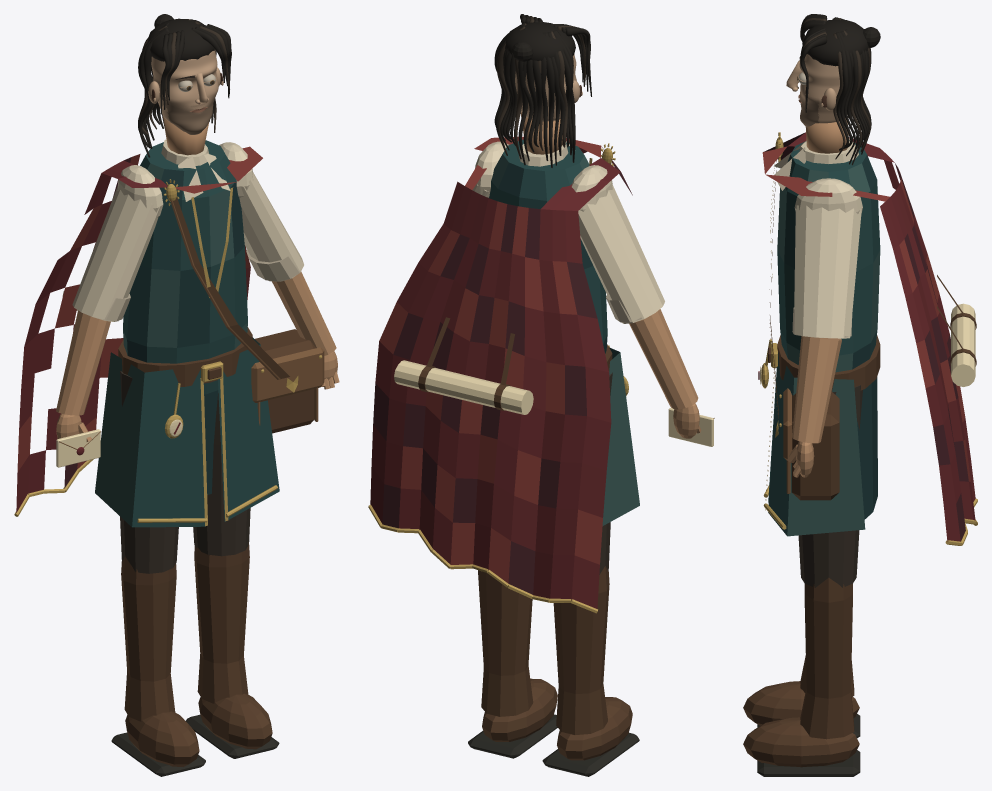
File: courier.glb
The picture shows the model from 3 angles, left to right: view 1: azimuth 30°, elevation 25°; view 2: azimuth 150°, elevation 25°; view 3: azimuth 270°, elevation 25°; orthographic projection. The views are drawn at different scales.
Parts seen in each view (by area): view 1: Waistcoat, Split_coat_R, Cloak_folds, Boot_shaft_R, Boot_shaft_L, Split_coat_L, Linen_sleeve_R, Forearm_R, Face, Linen_sleeve_L, Trouser_thigh_L, Boot_toe_R (+17 smaller); view 2: Cloak_folds, Boot_shaft_R, Boot_shaft_L, Linen_sleeve_R, Waistcoat, Split_coat_R, Map_roll, Forearm_R, Boot_toe_R, Boot_toe_L, Hair_crown, Boot_sole_R (+7 smaller); view 3: Cloak_folds, Waistcoat, Linen_sleeve_L, Boot_shaft_L, Split_coat_L, Boot_toe_L, Forearm_L, Trouser_thigh_L, Messenger_satchel, Back_coat, Boot_toe_R, Face (+12 smaller).
Boxes of the visible parts, x1=… form: Waistcoat: x1=123, y1=140, x2=247, y2=394; Split_coat_R: x1=95, y1=352, x2=205, y2=527; Cloak_folds: x1=16, y1=146, x2=262, y2=512; Boot_shaft_R: x1=121, y1=556, x2=176, y2=721; Boot_shaft_L: x1=194, y1=542, x2=249, y2=703; Split_coat_L: x1=218, y1=337, x2=279, y2=521; Linen_sleeve_R: x1=72, y1=186, x2=160, y2=321; Forearm_R: x1=56, y1=310, x2=110, y2=415; Face: x1=151, y1=50, x2=218, y2=134; Linen_sleeve_L: x1=239, y1=172, x2=303, y2=281; Trouser_thigh_L: x1=193, y1=393, x2=250, y2=556; Boot_toe_R: x1=125, y1=711, x2=199, y2=766; Cloak_folds: x1=370, y1=136, x2=632, y2=608; Boot_shaft_R: x1=553, y1=566, x2=609, y2=734; Boot_shaft_L: x1=478, y1=570, x2=533, y2=716; Linen_sleeve_R: x1=578, y1=184, x2=664, y2=323; Waistcoat: x1=489, y1=139, x2=607, y2=353; Split_coat_R: x1=602, y1=347, x2=639, y2=525; Map_roll: x1=394, y1=360, x2=533, y2=414; Forearm_R: x1=629, y1=309, x2=698, y2=409; Boot_toe_R: x1=557, y1=697, x2=632, y2=760; Boot_toe_L: x1=482, y1=678, x2=557, y2=741; Hair_crown: x1=505, y1=22, x2=575, y2=60; Boot_sole_R: x1=542, y1=732, x2=639, y2=776; Cloak_folds: x1=762, y1=132, x2=975, y2=541; Waistcoat: x1=777, y1=140, x2=880, y2=372; Linen_sleeve_L: x1=794, y1=205, x2=861, y2=338; Boot_shaft_L: x1=800, y1=577, x2=854, y2=739; Split_coat_L: x1=768, y1=352, x2=865, y2=536; Boot_toe_L: x1=743, y1=717, x2=859, y2=767; Forearm_L: x1=792, y1=336, x2=841, y2=443; Trouser_thigh_L: x1=798, y1=385, x2=862, y2=587; Messenger_satchel: x1=791, y1=391, x2=839, y2=500; Back_coat: x1=857, y1=377, x2=877, y2=519; Boot_toe_R: x1=743, y1=681, x2=859, y2=725; Face: x1=799, y1=54, x2=847, y2=127.
Bounding box in the file's own units: 0.7395 × 1.75 × 0.5149.
